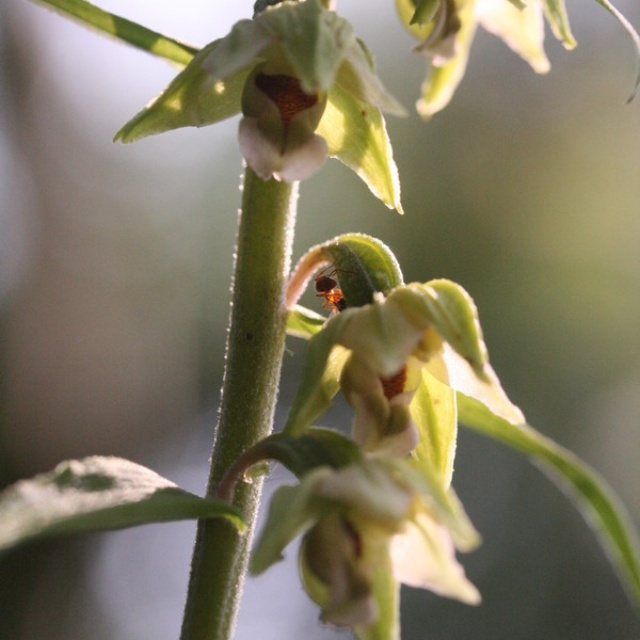obstacle: (82, 37, 586, 596)
